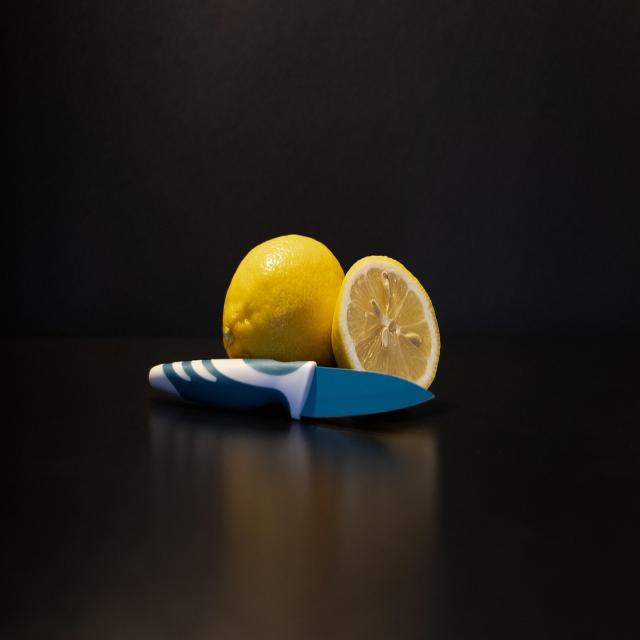Knife: (149, 359, 432, 419)
